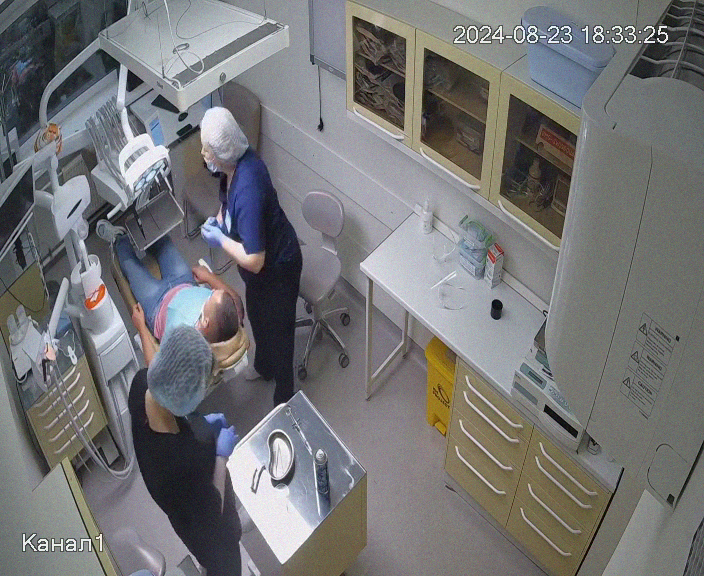Patient: (98, 219, 252, 390)
